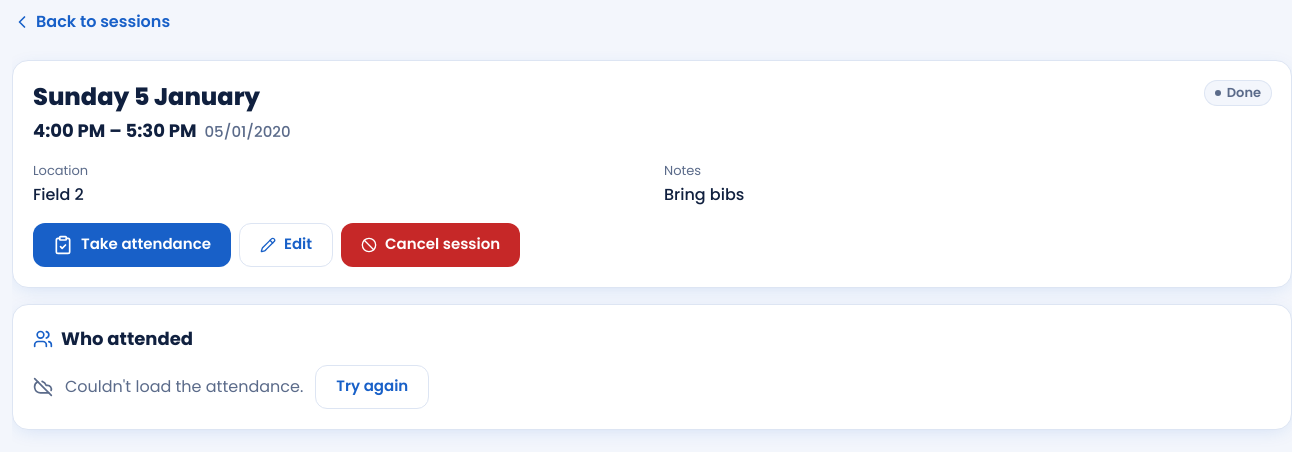
it: SessionDetailPage › who attended › offers a retry when the attendance cannot be loaded
Expected: the text "Couldn't load the attendance." is shown, [65,374,303,398]
Click the button "Try again" at (372, 386), box [315,364,429,408]
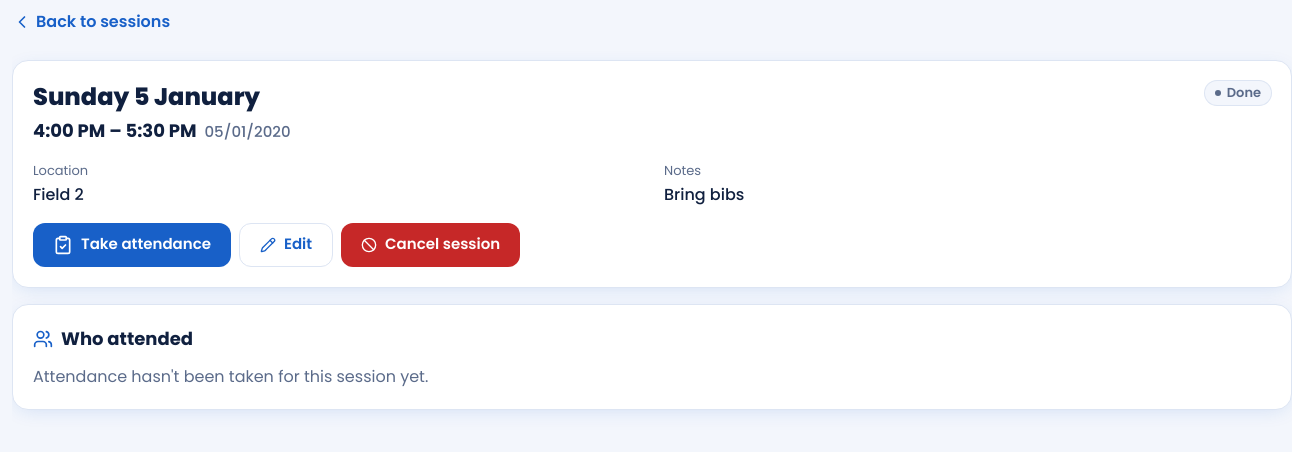
Expected: the text "Attendance hasn't been taken for this session yet." is shown, [33,364,428,388]
